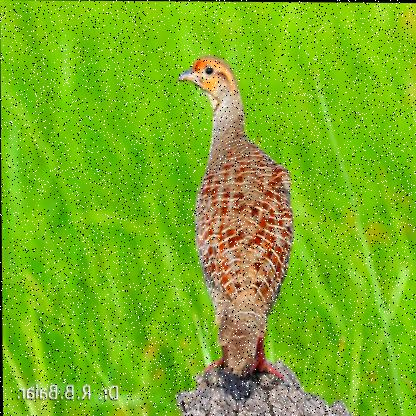Burung: (178, 54, 295, 378)
